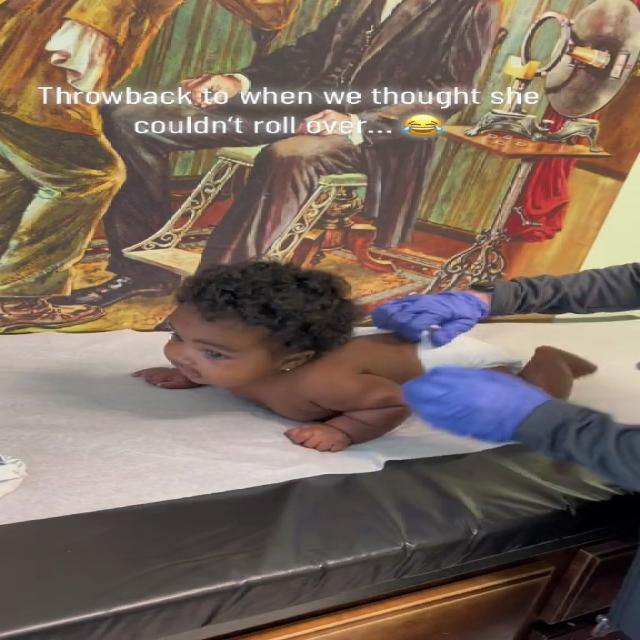baby: (128, 260, 606, 460)
